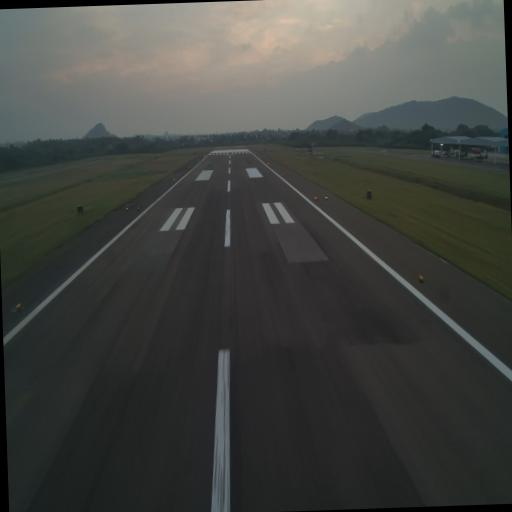on: (13, 300, 23, 312), (417, 272, 424, 284), (136, 206, 140, 212), (324, 194, 328, 200), (125, 206, 128, 211), (314, 196, 317, 200)
